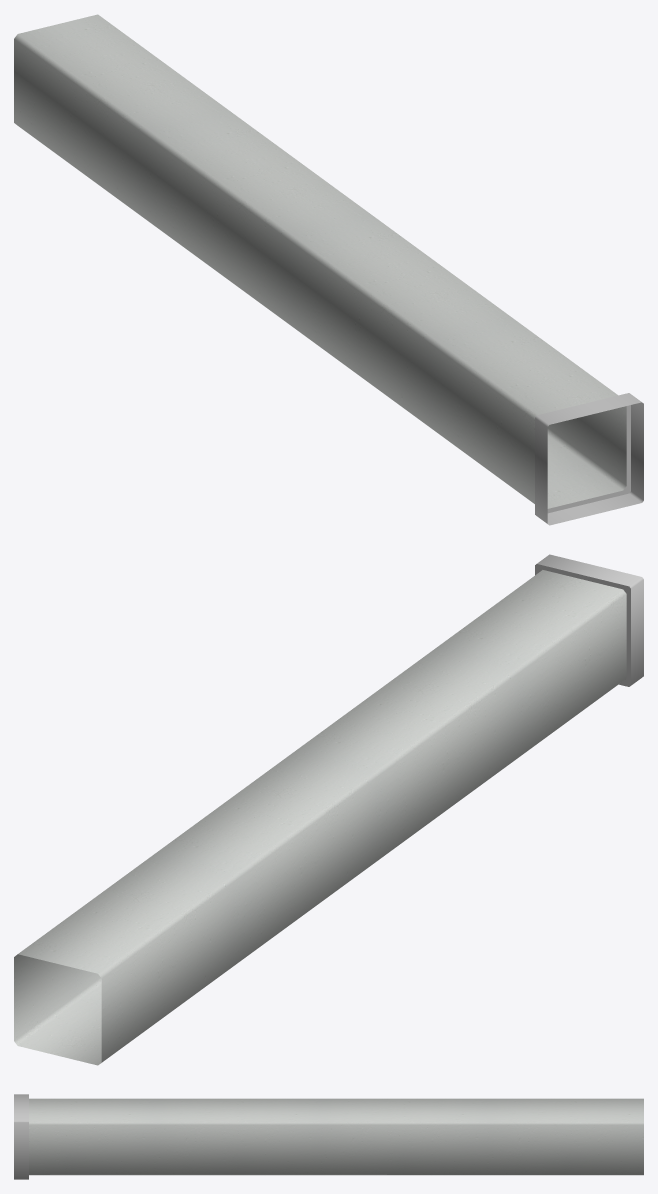
The model's file is pillar.FBX.
The picture shows the model from 3 angles, top to bottom: view 1: azimuth 30°, elevation 25°; view 2: azimuth 150°, elevation 25°; view 3: azimuth 270°, elevation 25°; orthographic projection. The views are drawn at different scales.
Parts seen in each view (by area): view 1: pillar; view 2: pillar; view 3: pillar.
Part boxes in pixels (x1,y1,x2,y2): pillar: [14, 14, 643, 525]; pillar: [14, 554, 643, 1065]; pillar: [14, 1094, 643, 1179].
Size of the model in its own units: 51.64 by 51.64 by 500.
